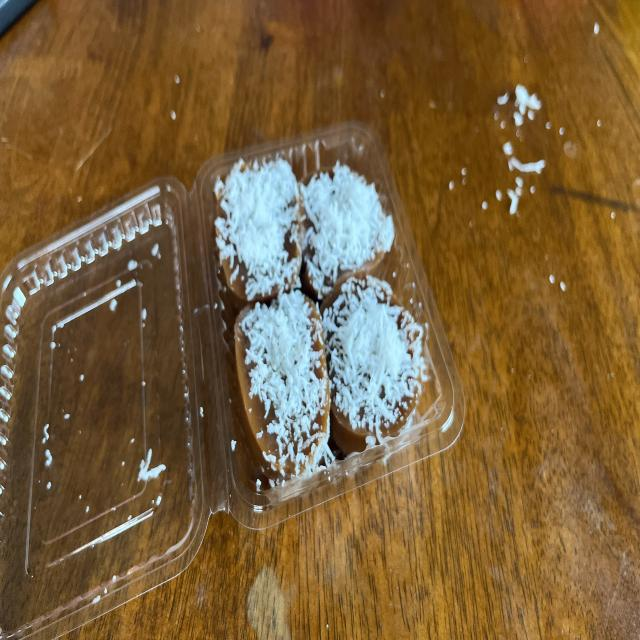Kuih lompang: (322, 276, 428, 453), (234, 291, 330, 480), (300, 162, 395, 300), (214, 158, 301, 302)
